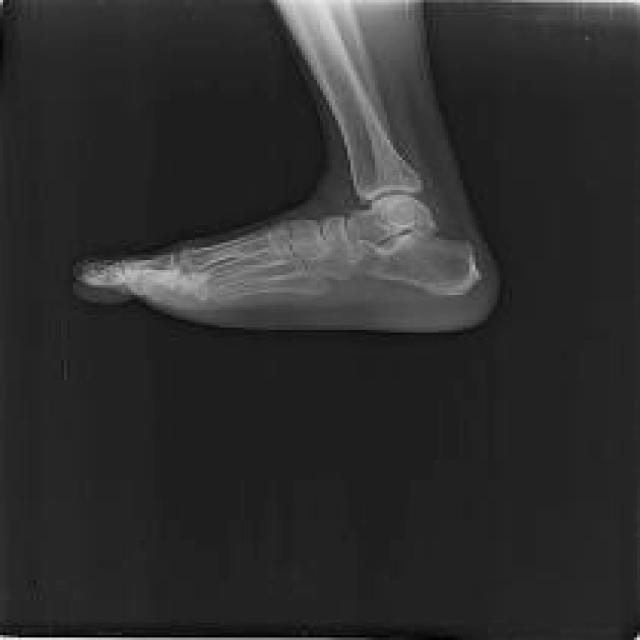normal: (77, 0, 477, 291)
